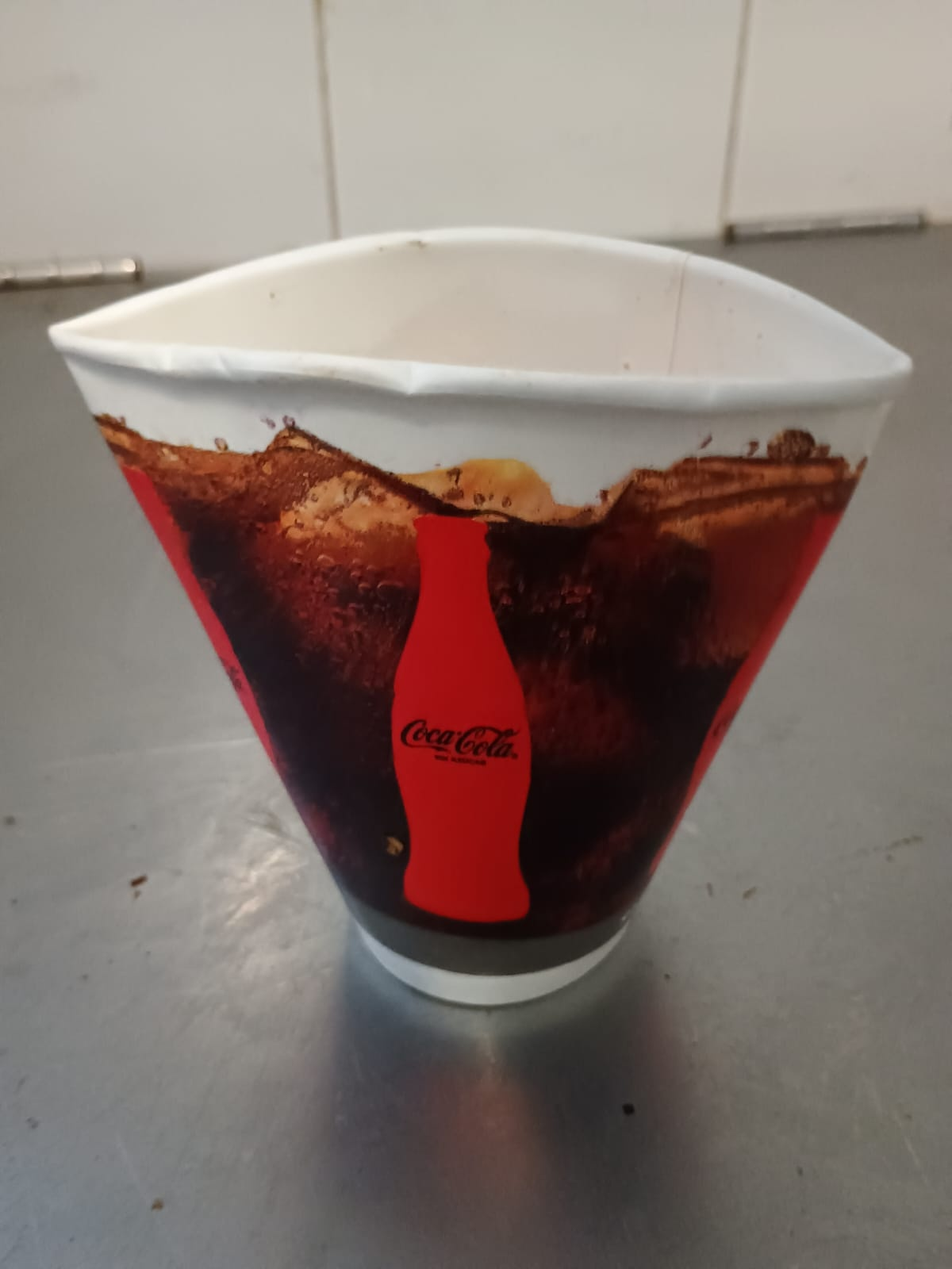Carton: (48, 230, 908, 1005)
